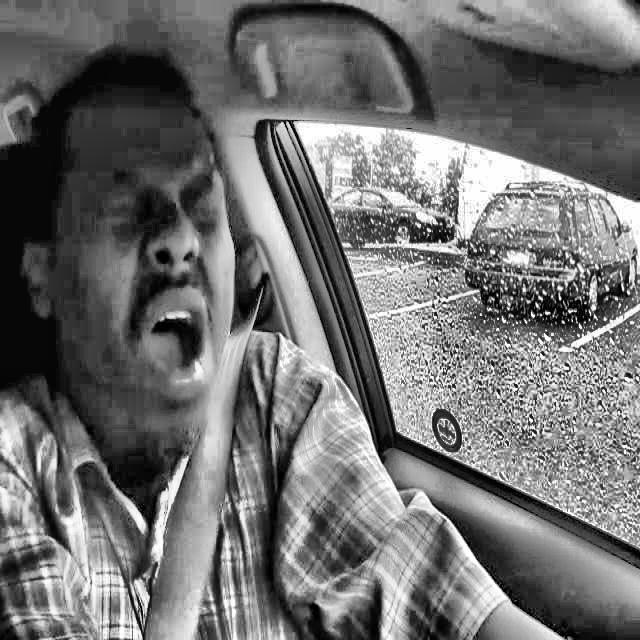closed_eyes: (84, 185, 164, 244), (180, 188, 231, 237)
open_mouth: (116, 277, 240, 421)
